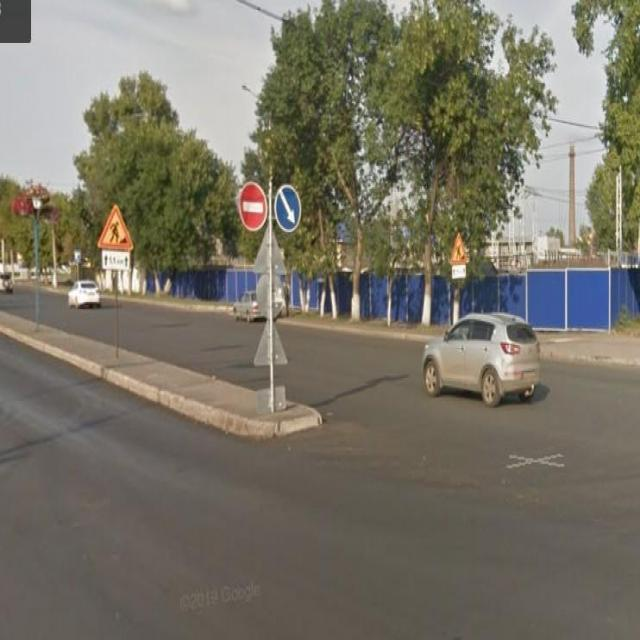Zakaz wjazdu: (236, 176, 271, 236)
